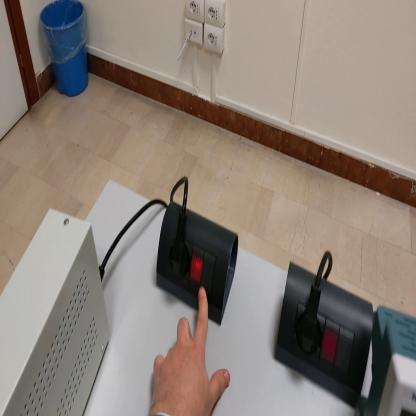hand: (150, 284, 231, 415)
oscilloscope: (374, 301, 416, 416)
power supply: (1, 208, 111, 416)
socket: (274, 251, 376, 410), (155, 204, 239, 334)
